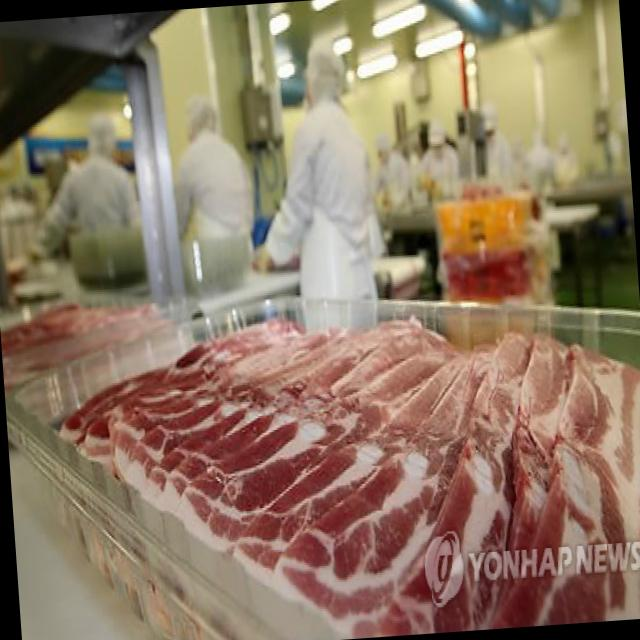pork: (89, 327, 640, 640)
